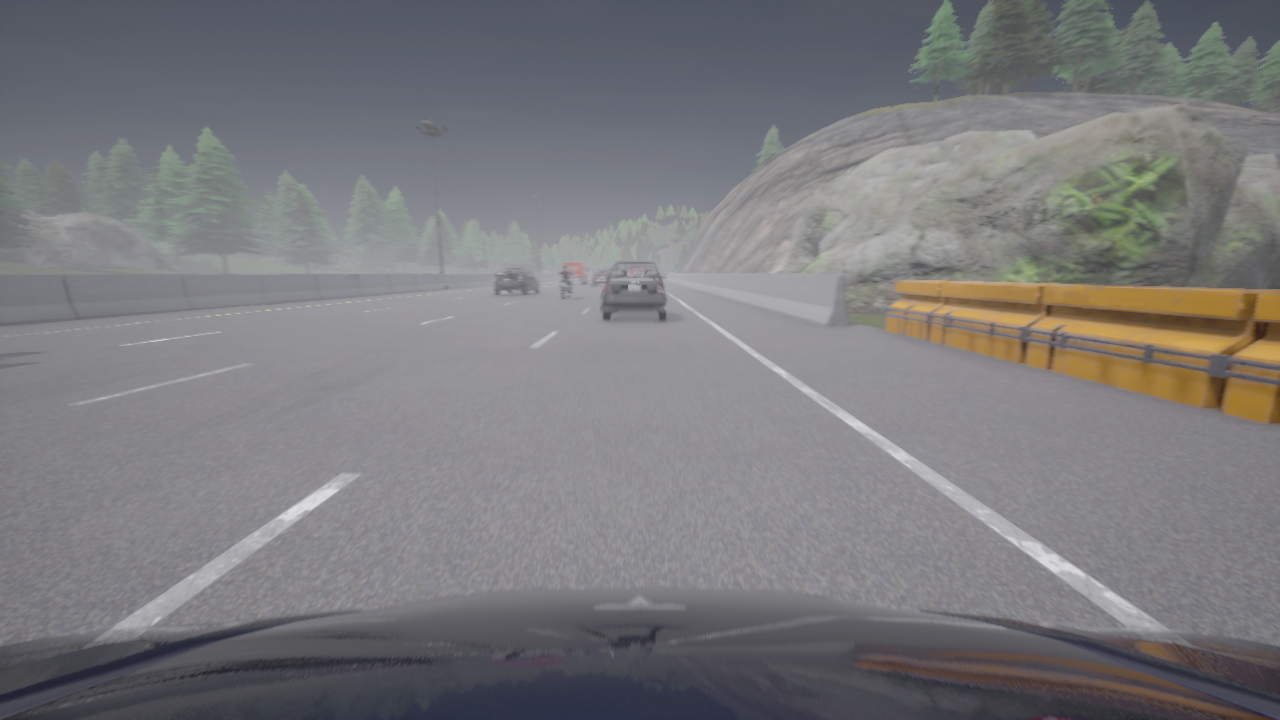cyclist: (0, 588, 1279, 719), (601, 260, 667, 320), (494, 267, 539, 295), (562, 261, 588, 284), (559, 275, 572, 298), (592, 269, 609, 285)
